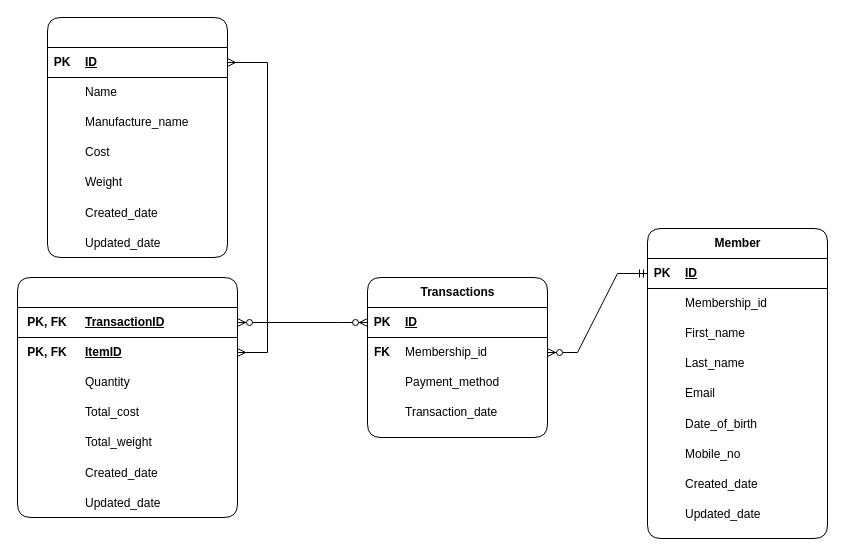
Some shapes in this 845 by 556 pixel diagram are drawn without their labels. The shapes that lost their labels are listed below. From the top down, each one's box as (x1, y1, x2, y2) in pixels, then its label:
(46, 16, 228, 258): Item
(16, 276, 238, 518): Purchase_details
